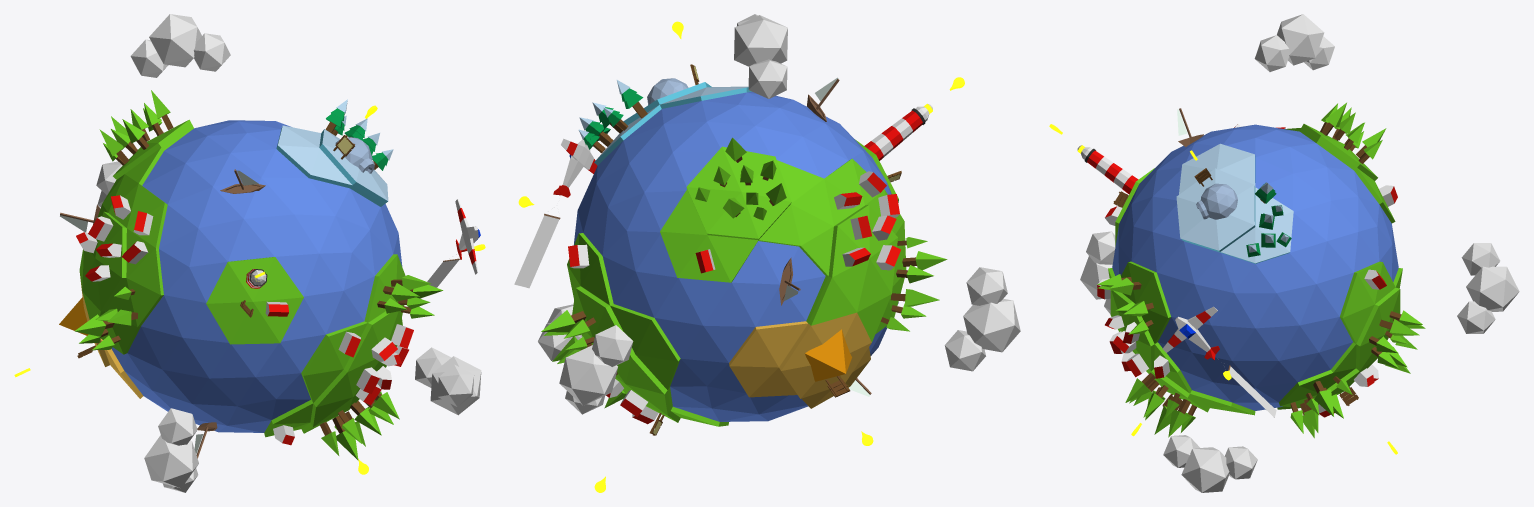
File: planetCloud1.b9931363.glb
3 views of the same model, side by side, from view 1: azimuth 30°, elevation 25°; view 2: azimuth 150°, elevation 25°; view 3: azimuth 270°, elevation 25° (orthographic). The views are drawn at different scales.
Parts seen in each view (by area): view 1: Icosphere.003, Icosphere.005, Icosphere.008, Icosphere.006, Airplane, Icosphere, Icosphere.007, Plane.003, Cube; view 2: Icosphere.003, Icosphere.008, Icosphere.007, Icosphere.005, Airplane, Cube, Cylinder, Icosphere.006, Icosphere, Plane.052; view 3: Icosphere.003, Icosphere.007, Icosphere.006, Icosphere.005, Airplane, Icosphere.008, Icosphere, Cylinder.
Boxes of the visible parts, left/top/right/bottom form: Icosphere.003: left=79, top=119, right=405, bottom=437; Icosphere.005: left=130, top=14, right=230, bottom=77; Icosphere.008: left=144, top=408, right=198, bottom=492; Icosphere.006: left=415, top=347, right=481, bottom=415; Airplane: left=427, top=199, right=480, bottom=287; Icosphere: left=335, top=137, right=374, bottom=173; Icosphere.007: left=96, top=161, right=122, bottom=207; Plane.003: left=220, top=169, right=265, bottom=193; Cube: left=59, top=297, right=88, bottom=335; Icosphere.003: left=567, top=82, right=906, bottom=426; Icosphere.008: left=944, top=267, right=1020, bottom=371; Icosphere.007: left=559, top=325, right=633, bottom=414; Icosphere.005: left=734, top=14, right=787, bottom=98; Airplane: left=514, top=138, right=597, bottom=288; Cube: left=805, top=329, right=851, bottom=381; Cylinder: left=864, top=103, right=932, bottom=160; Icosphere.006: left=538, top=304, right=582, bottom=360; Icosphere: left=647, top=78, right=688, bottom=104; Plane.052: left=541, top=310, right=586, bottom=332; Icosphere.003: left=1108, top=124, right=1402, bottom=415; Icosphere.007: left=1457, top=243, right=1519, bottom=333; Icosphere.006: left=1163, top=435, right=1257, bottom=492; Icosphere.005: left=1254, top=14, right=1334, bottom=71; Airplane: left=1162, top=306, right=1276, bottom=417; Icosphere.008: left=1080, top=231, right=1115, bottom=314; Icosphere: left=1196, top=183, right=1237, bottom=219; Cylinder: left=1077, top=145, right=1138, bottom=194.
Bounding box in the file's own units: 2.95 × 3.04 × 3.28.
